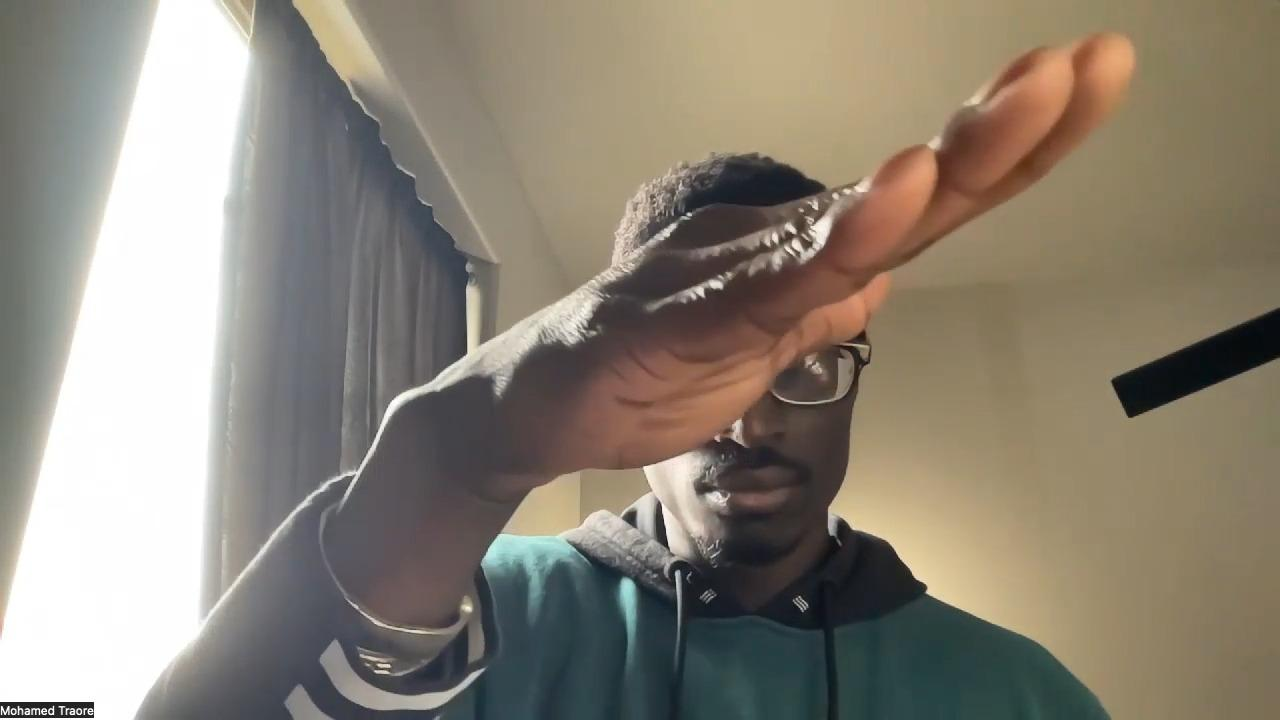Paper: (395, 28, 1138, 486)
